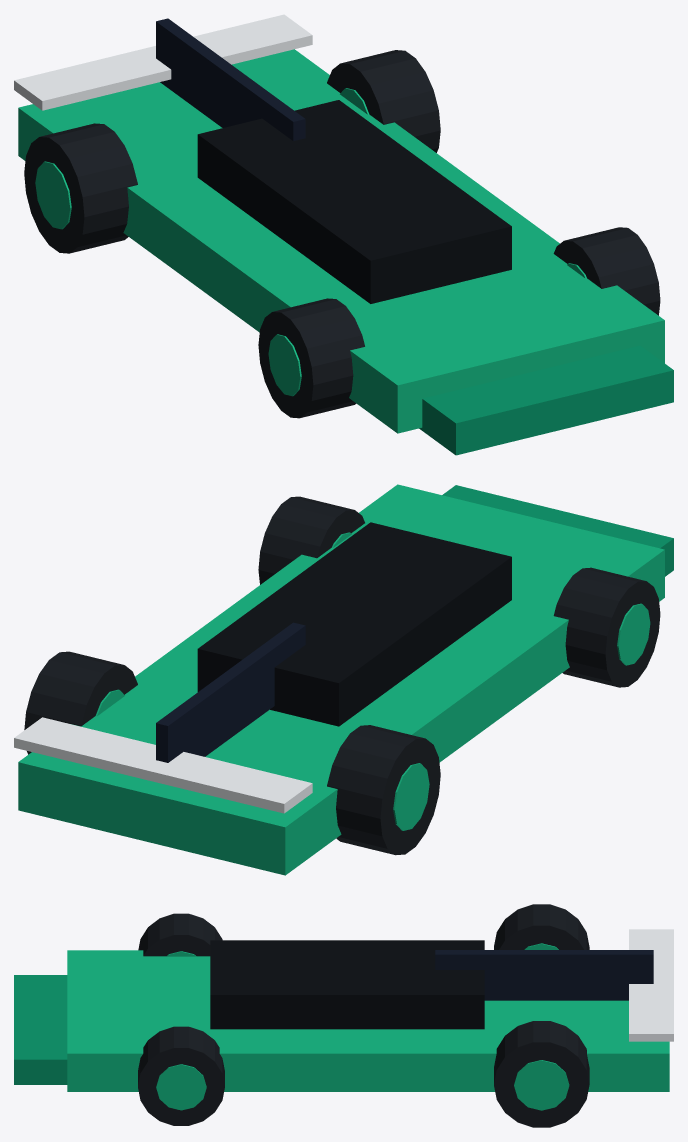
The model's file is phantom-stream.glb.
3 renders of one model, top to bottom at view 1: azimuth 30°, elevation 25°; view 2: azimuth 150°, elevation 25°; view 3: azimuth 270°, elevation 25°, orthographic. The views are drawn at different scales.
Parts seen in each view (by area): view 1: RaceCar; view 2: RaceCar; view 3: RaceCar.
Boxes of the visible parts, x1=… form: RaceCar: x1=14, y1=14, x2=673, y2=455; RaceCar: x1=14, y1=484, x2=673, y2=875; RaceCar: x1=14, y1=904, x2=673, y2=1127.
Size of the model in its own units: 2.34 by 0.8353 by 4.69.
